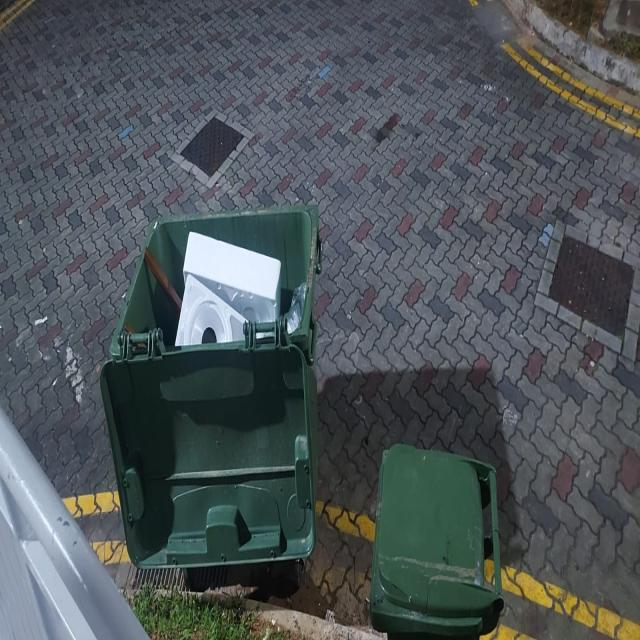bin_empty: (366, 437, 500, 635)
bin_full: (100, 201, 321, 588)
bulk_waste: (184, 224, 282, 351)
